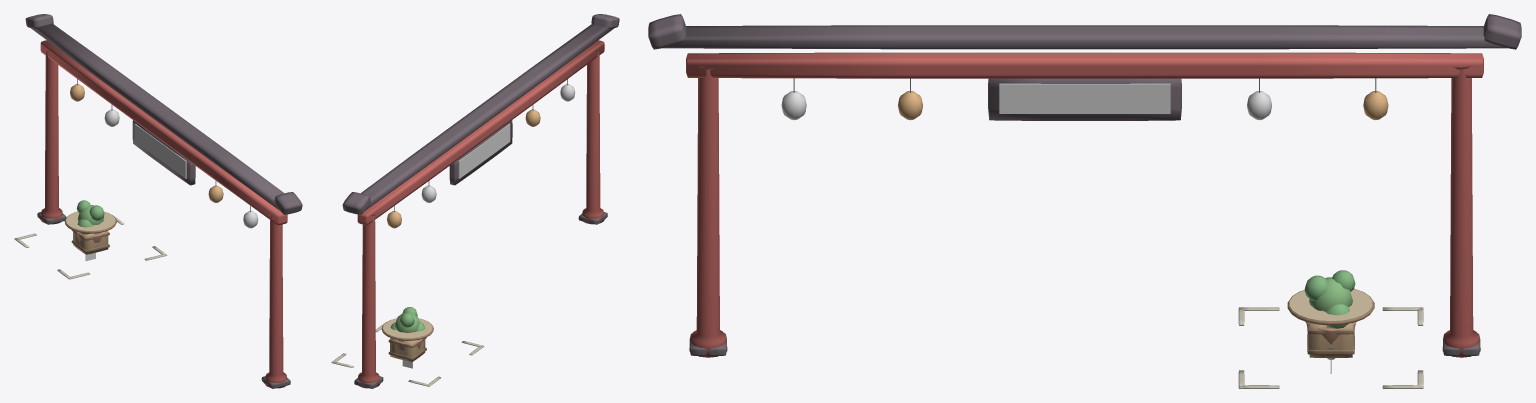
Rendered from props.glb.
The picture shows the model from 3 angles, left to right: view 1: azimuth 30°, elevation 25°; view 2: azimuth 150°, elevation 25°; view 3: azimuth 270°, elevation 25°; orthographic projection. The views are drawn at different scales.
Visible parts, largest first — view 1: gate, gate_glow, planter, table, crate, plot; view 2: gate, gate_glow, planter, crate, table, plot; view 3: gate, gate_glow, planter, table, crate, plot.
Part boxes in pixels (box(x1,y1,x2,y2)): gate: box(25, 14, 302, 388); gate_glow: box(70, 79, 258, 228); planter: box(76, 200, 104, 243); table: box(64, 211, 116, 233); crate: box(71, 230, 109, 254); plot: box(14, 215, 167, 279); gate: box(342, 14, 619, 388); gate_glow: box(387, 79, 575, 228); planter: box(390, 307, 425, 350); crate: box(388, 337, 426, 361); table: box(381, 318, 433, 340); plot: box(331, 322, 484, 386); gate: box(648, 14, 1521, 357); gate_glow: box(781, 78, 1388, 120); planter: box(1304, 270, 1356, 344); table: box(1287, 288, 1374, 358); crate: box(1307, 323, 1354, 357); plot: box(1238, 307, 1423, 388).
Bounding box in the file's own units: 2.55 × 5.17 × 11.71.
